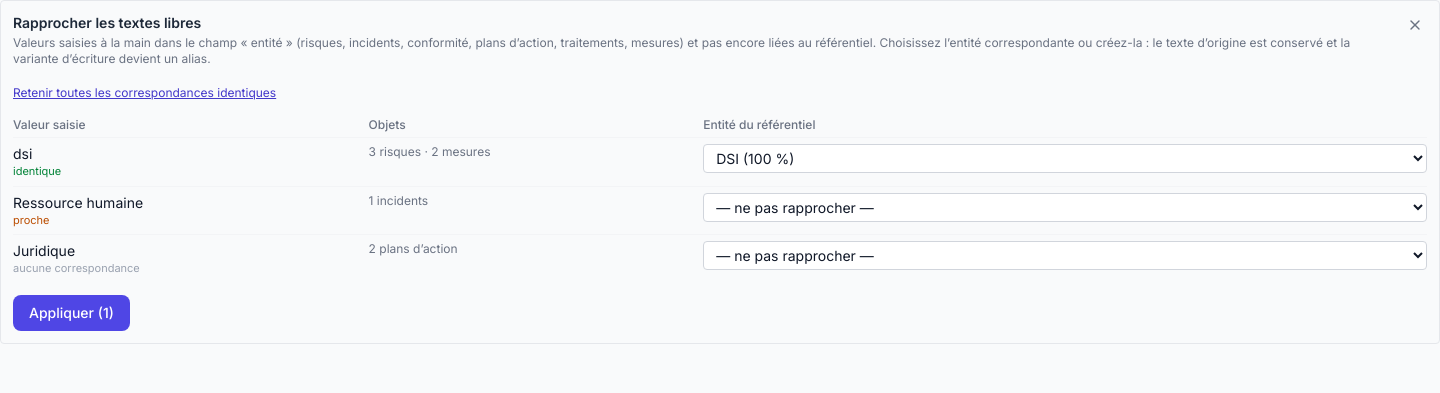
Test case: RapprochementEntitesPanel › erreur expliquée
The image size is (1440, 393).
Click the button "Appliquer (1)".
click(71, 313)  # box [13,295,130,331]
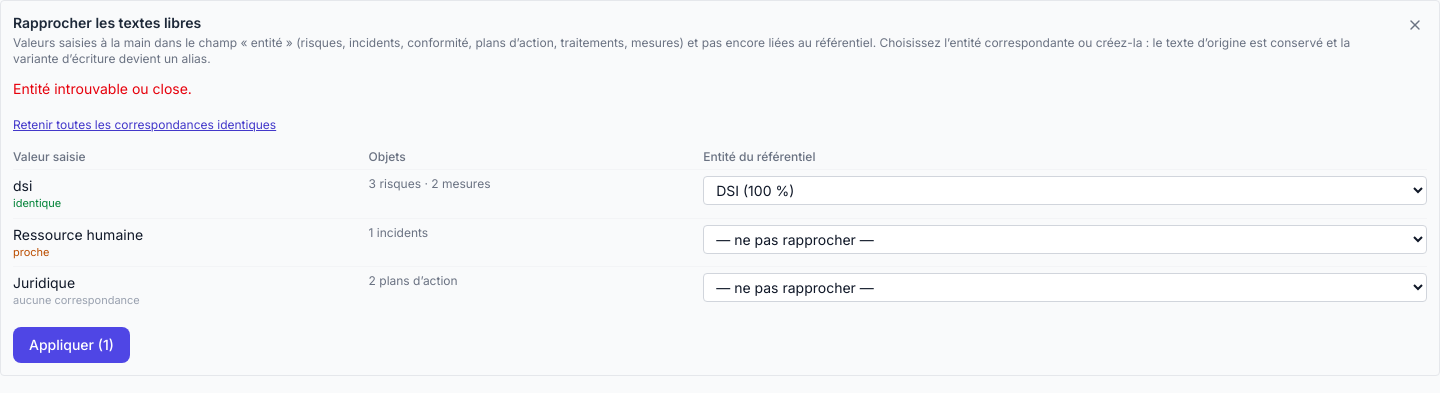
Now the message reads "Entité introuvable ou close.", box [13,80,192,97]
